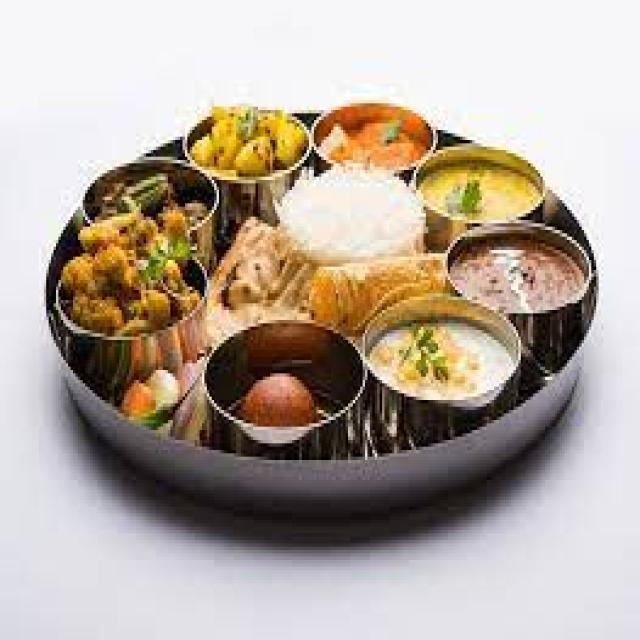dal: (66, 171, 208, 361), (412, 142, 552, 243), (186, 94, 309, 190)
rice: (370, 309, 518, 418), (286, 167, 423, 267)
roti: (201, 216, 327, 351)
sambar-rasam: (445, 226, 595, 336), (315, 90, 439, 176)
veg-fry: (58, 153, 212, 370), (186, 94, 310, 194)
